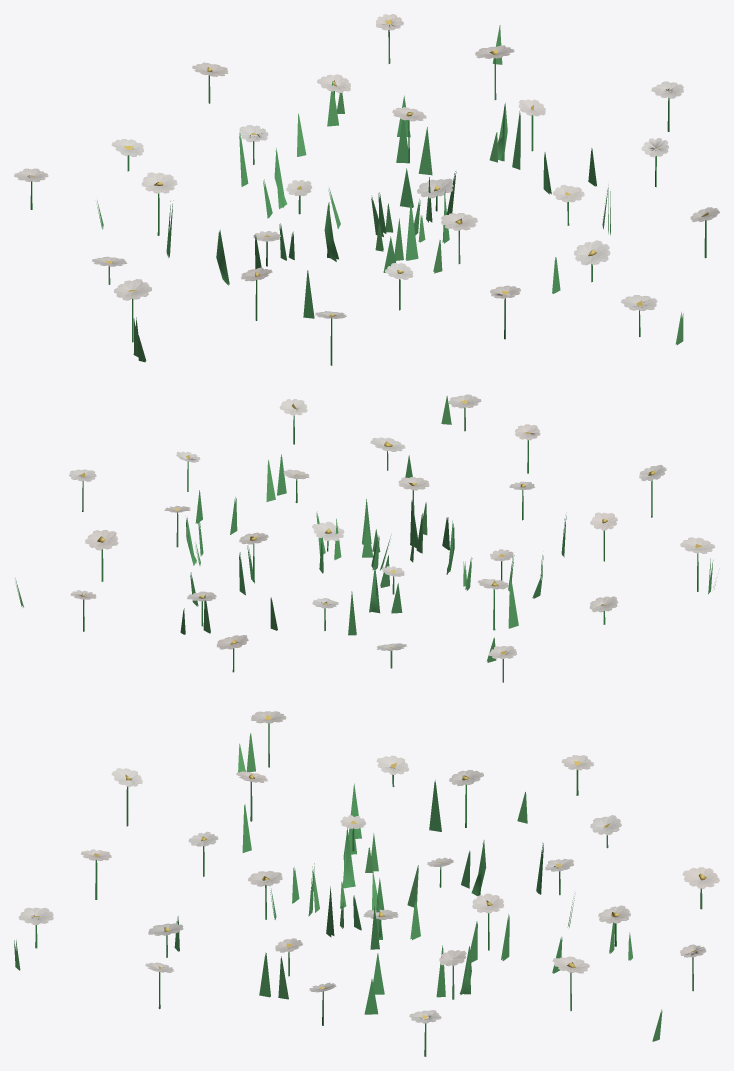
The model's file is flora_carpet_pearl.gltf.
3 views of the same model, one above another, from view 1: azimuth 30°, elevation 25°; view 2: azimuth 150°, elevation 25°; view 3: azimuth 270°, elevation 25° (orthographic). The views are drawn at different scales.
Parts seen in each view (by area): view 1: flora_carpet_pearl; view 2: flora_carpet_pearl; view 3: flora_carpet_pearl.
Part boxes in pixels (box(x1,y1,x2,y2)): flora_carpet_pearl: box(14, 14, 719, 365); flora_carpet_pearl: box(15, 394, 716, 682); flora_carpet_pearl: box(14, 711, 719, 1056).
Size of what is drawn, in the model's own units: 1.57 by 0.1512 by 1.54.
